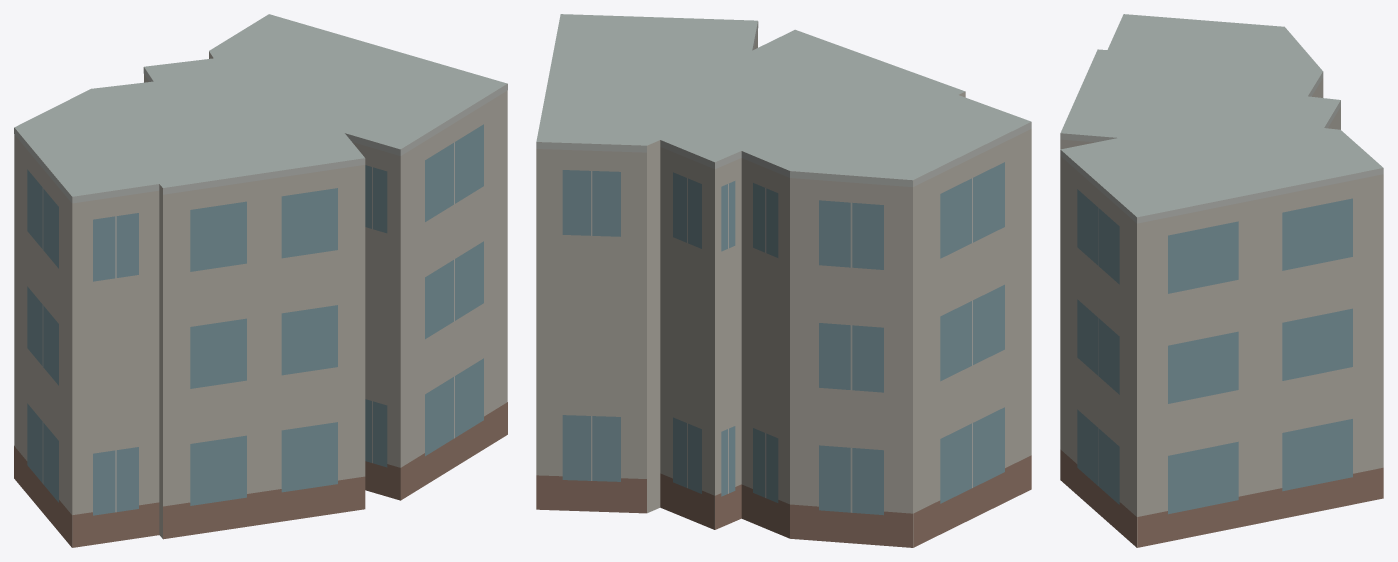
The model's file is survey-upis-32773659.glb.
The picture shows the model from 3 angles, left to right: view 1: azimuth 30°, elevation 25°; view 2: azimuth 150°, elevation 25°; view 3: azimuth 270°, elevation 25°; orthographic projection. The views are drawn at different scales.
Visible parts, largest first — view 1: survey-upis-32773659.tmp; view 2: survey-upis-32773659.tmp; view 3: survey-upis-32773659.tmp.
Boxes of the visible parts, box(x1,y1,x2,y2) form: survey-upis-32773659.tmp: box(14, 14, 507, 547); survey-upis-32773659.tmp: box(536, 14, 1031, 547); survey-upis-32773659.tmp: box(1060, 14, 1383, 547).
Bounding box in the file's own units: 16.9 × 12.8 × 11.36.
